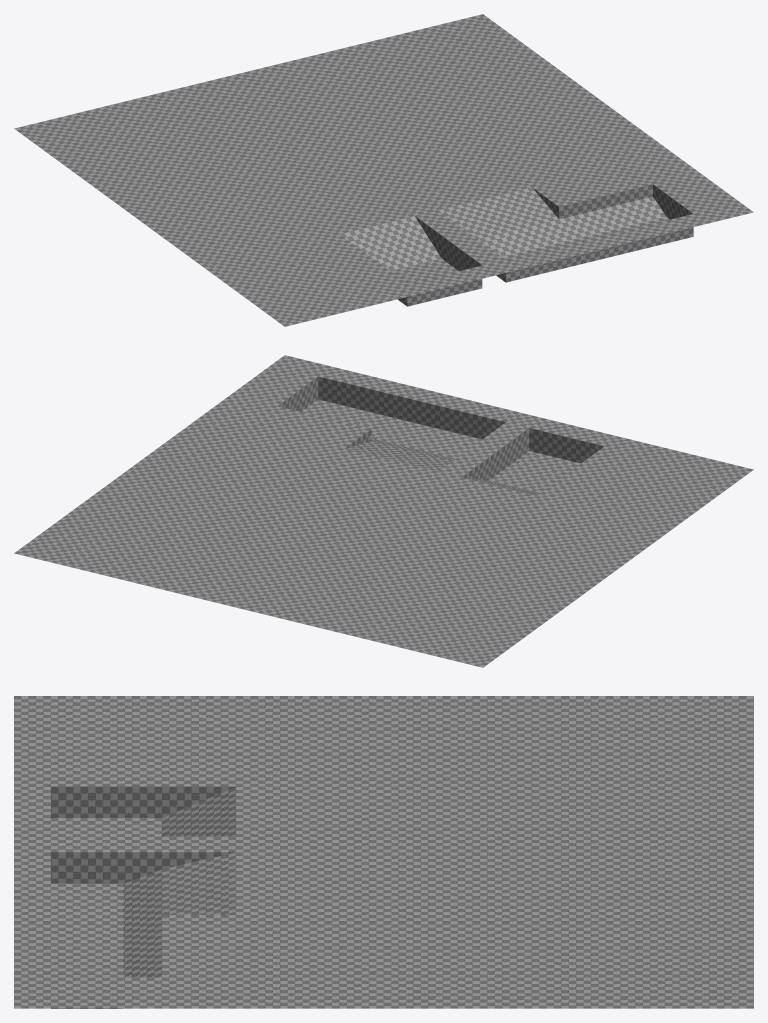
Rendered from Pool.obj.
3 views of the same model, one above another, from view 1: azimuth 30°, elevation 25°; view 2: azimuth 150°, elevation 25°; view 3: azimuth 270°, elevation 25° (orthographic). The views are drawn at different scales.
Visible parts, largest first — view 1: Plane.001; view 2: Plane.001; view 3: Plane.001.
Part boxes in pixels (left/top/right/bottom): Plane.001: left=14, top=14, right=753, bottom=326; Plane.001: left=14, top=355, right=753, bottom=667; Plane.001: left=14, top=696, right=753, bottom=1008.
Size of the model in its own units: 100 by 4.68 by 100.
